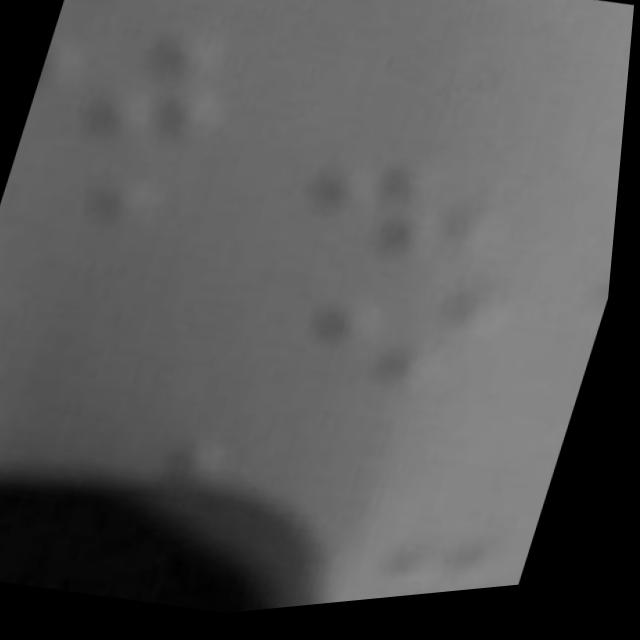braiile: (274, 256, 525, 452), (19, 5, 258, 187), (293, 136, 533, 312), (289, 504, 545, 615), (63, 0, 214, 25)
